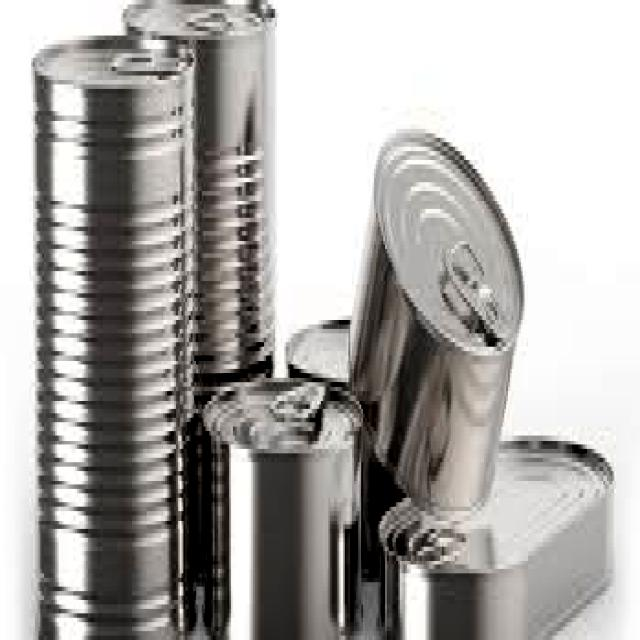Metal: (27, 28, 200, 640), (346, 115, 529, 534), (203, 375, 362, 640)
